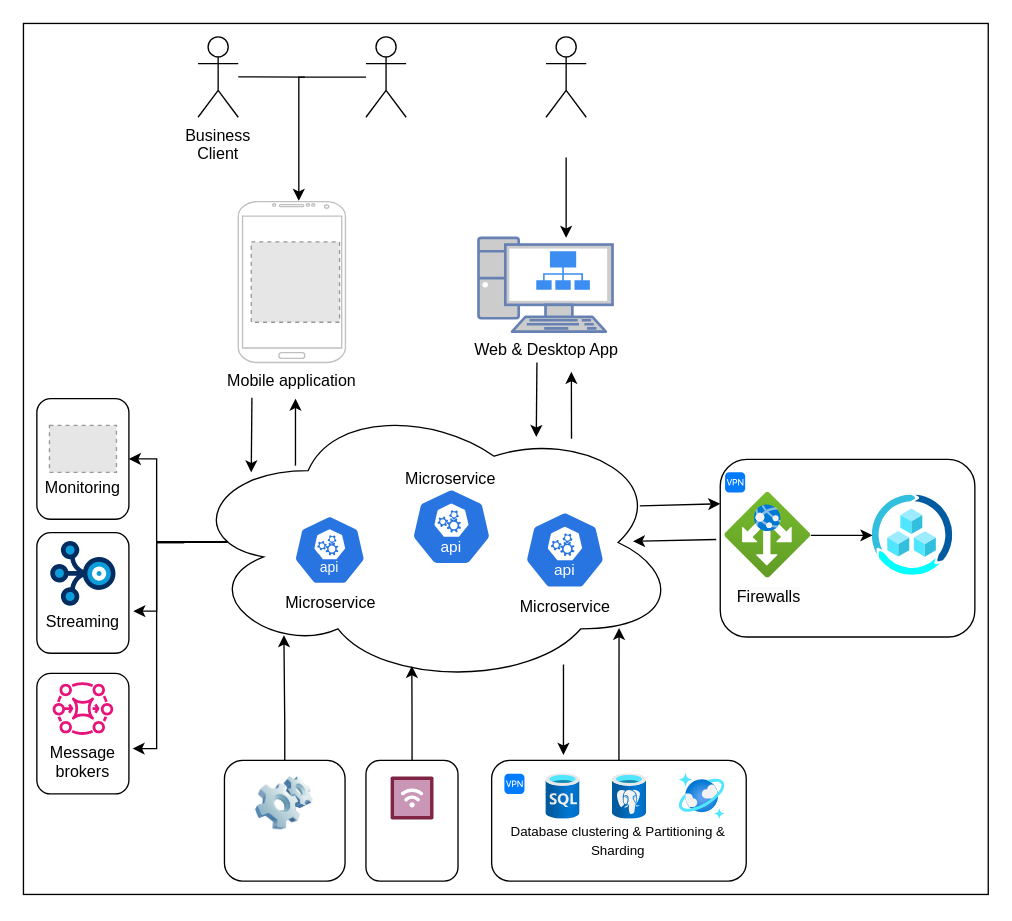
The diagram is 1012 pixels wide and 921 high, and some of its shapes have lost their labels. Grey dashed boxes stand in for pictures. The centre of each missing label's shape, as x and y in pixels:
Business Partner: (x=385, y=76)
Business Stakeholder: (x=565, y=76)
External partner system: (x=284, y=802)
Internal subsystems: (x=912, y=534)
Internet of Things: (x=411, y=797)
